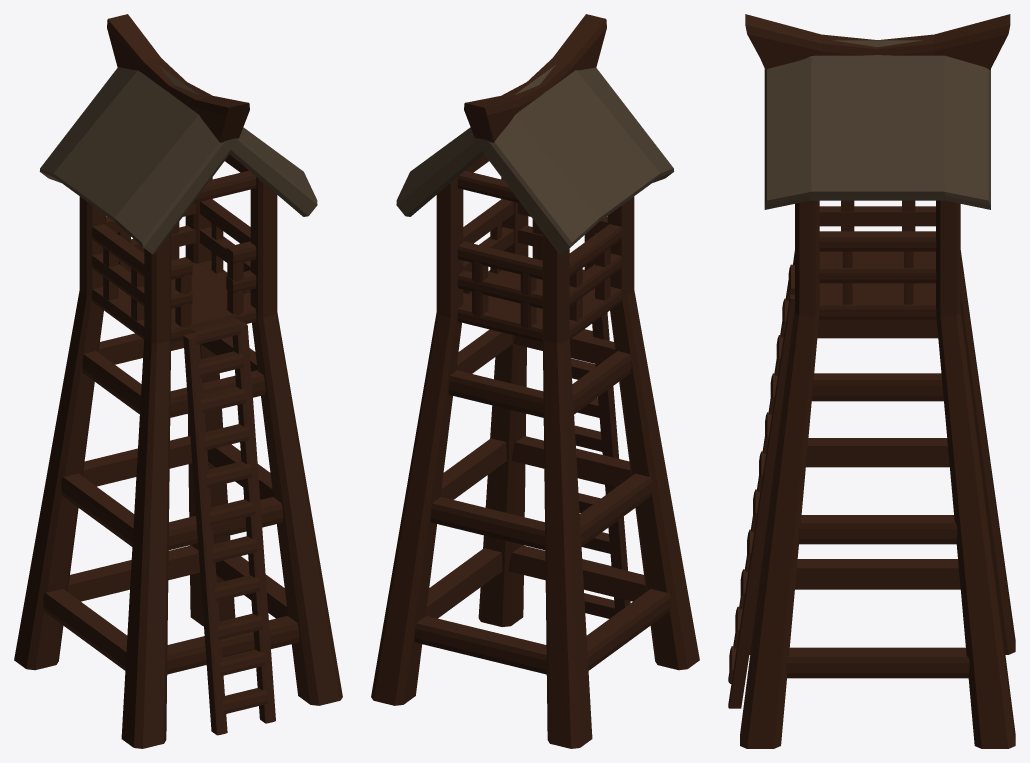
File: TorreSimples.fbx
The picture shows the model from 3 angles, left to right: view 1: azimuth 30°, elevation 25°; view 2: azimuth 150°, elevation 25°; view 3: azimuth 270°, elevation 25°; orthographic projection. The views are drawn at different scales.
Parts seen in each view (by area): view 1: TorreSimples_LOD0; view 2: TorreSimples_LOD0; view 3: TorreSimples_LOD0.
Boxes of the visible parts, <box> form: TorreSimples_LOD0: <box>14,14,342,748</box>; TorreSimples_LOD0: <box>371,14,699,748</box>; TorreSimples_LOD0: <box>728,14,1015,748</box>.
Size of what is drawn, in the model's own units: 330 by 932 by 360.
